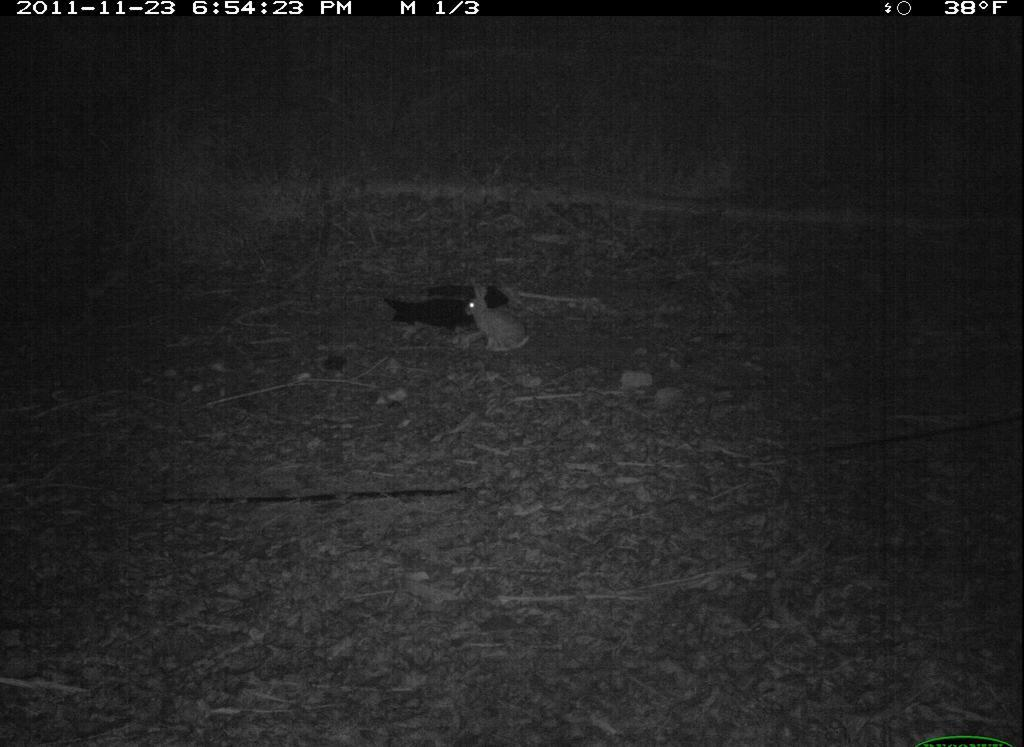rabbit: (447, 272, 538, 358)
